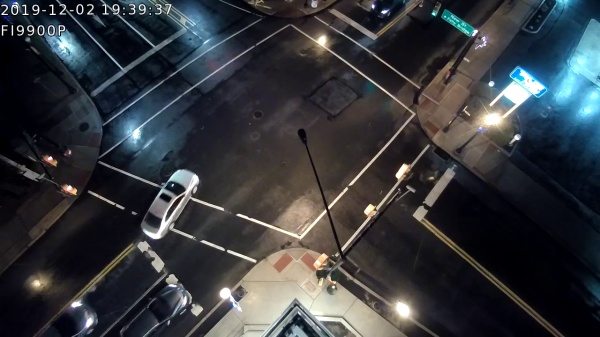car: (120, 282, 193, 337), (140, 168, 198, 236), (43, 300, 99, 337), (371, 1, 405, 21)
